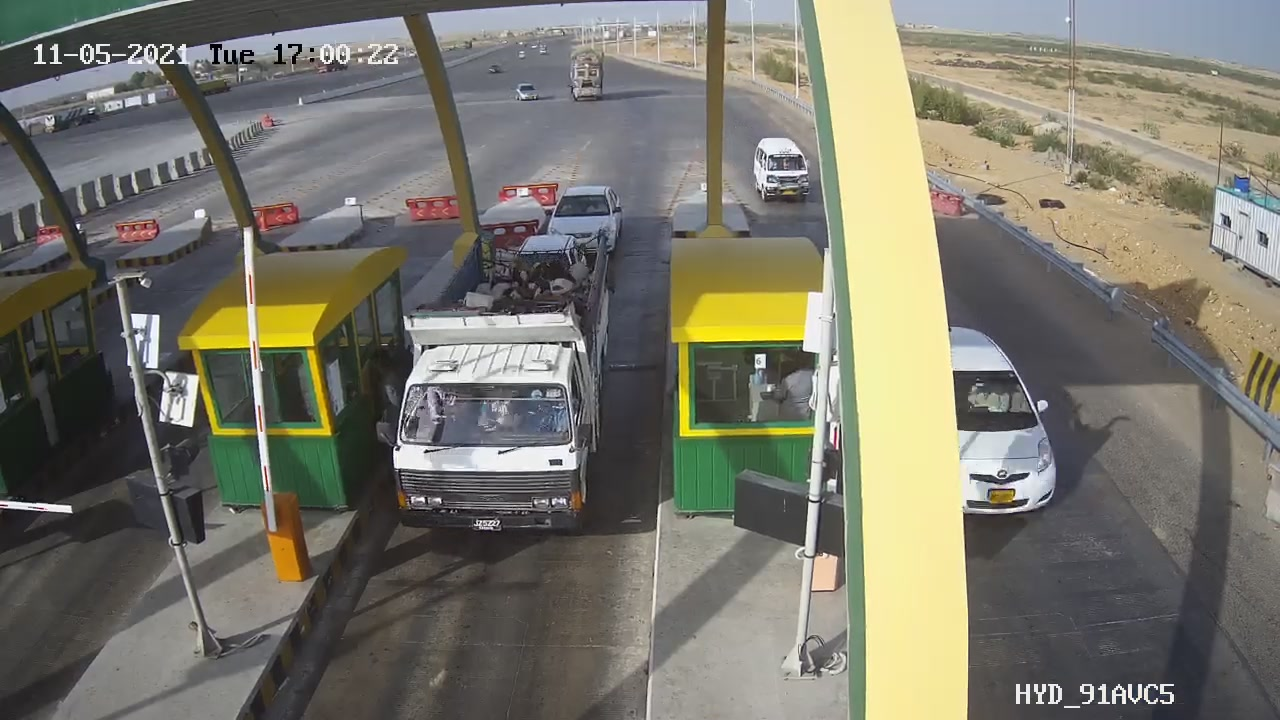F3: (366, 218, 639, 549)
